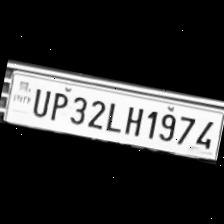1: (139, 106, 160, 139)
2: (83, 94, 108, 132)
3: (64, 90, 90, 127)
4: (190, 115, 217, 151)
7: (172, 111, 196, 147)
9: (153, 107, 178, 144)
H: (119, 101, 148, 138)
L: (102, 98, 126, 134)
P: (46, 86, 71, 122)
U: (27, 83, 53, 119)
